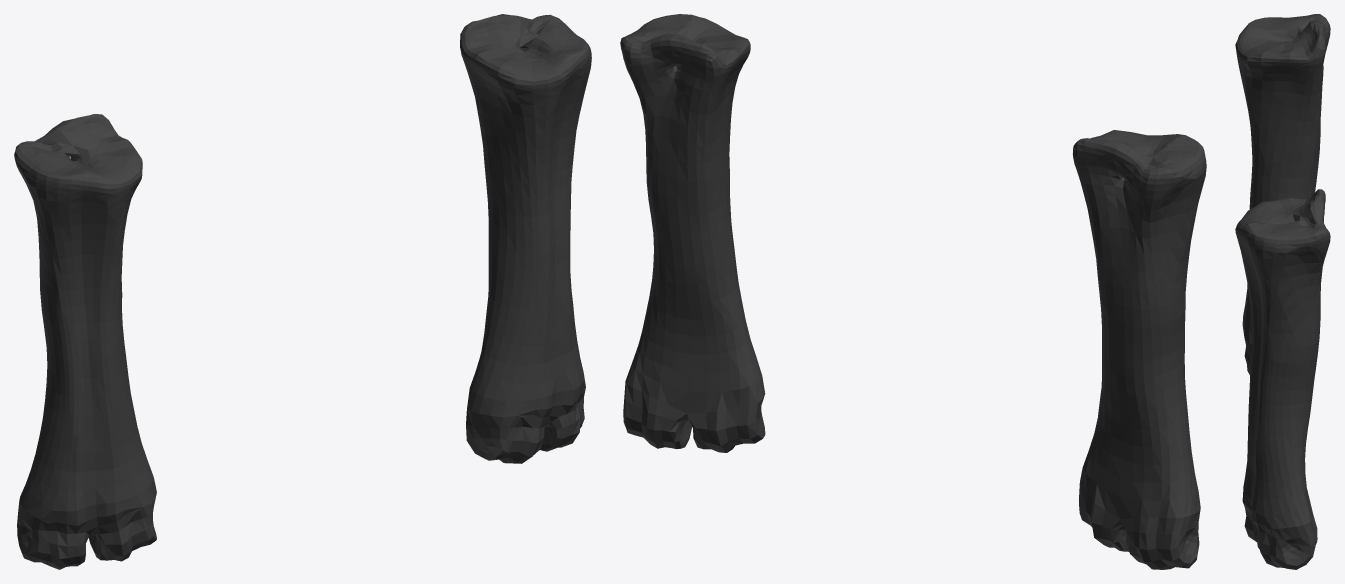
Rendered from b_metatarsal_L_LO.glb.
The picture shows the model from 3 angles, left to right: view 1: azimuth 30°, elevation 25°; view 2: azimuth 150°, elevation 25°; view 3: azimuth 270°, elevation 25°; orthographic projection. The views are drawn at different scales.
Visible parts, largest first — view 1: b_metatarsal_L_LO; view 2: b_metatarsal_L_LO; view 3: b_metatarsal_L_LO.
Boxes of the visible parts, x1=… form: b_metatarsal_L_LO: x1=14, y1=14, x2=591, y2=569; b_metatarsal_L_LO: x1=620, y1=14, x2=1206, y2=569; b_metatarsal_L_LO: x1=1235, y1=14, x2=1330, y2=569.
Size of the model in its own units: 0.00356 by 0.00261 by 0.000633.
1 material, 1 textured.
